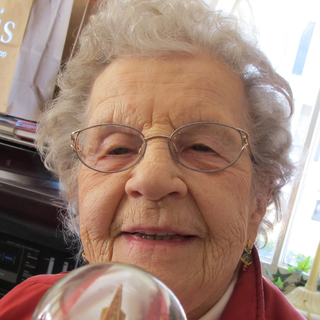eye: (179, 139, 223, 161), (100, 142, 141, 163)
